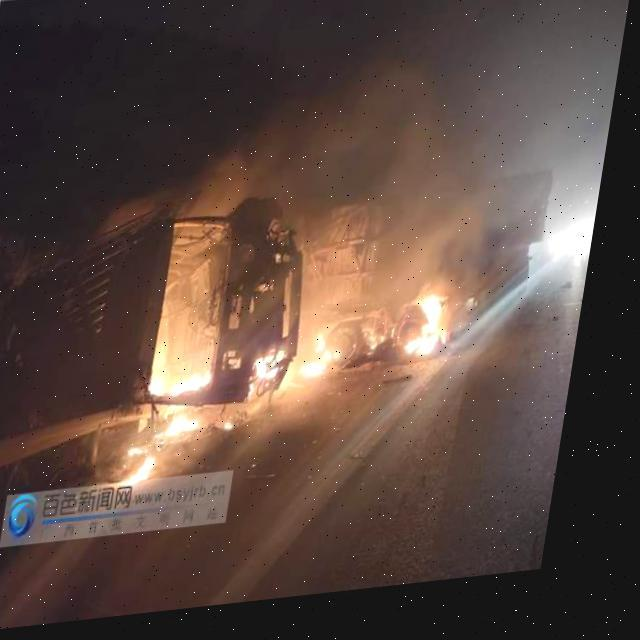Fire: (136, 329, 309, 493), (316, 278, 468, 387)
